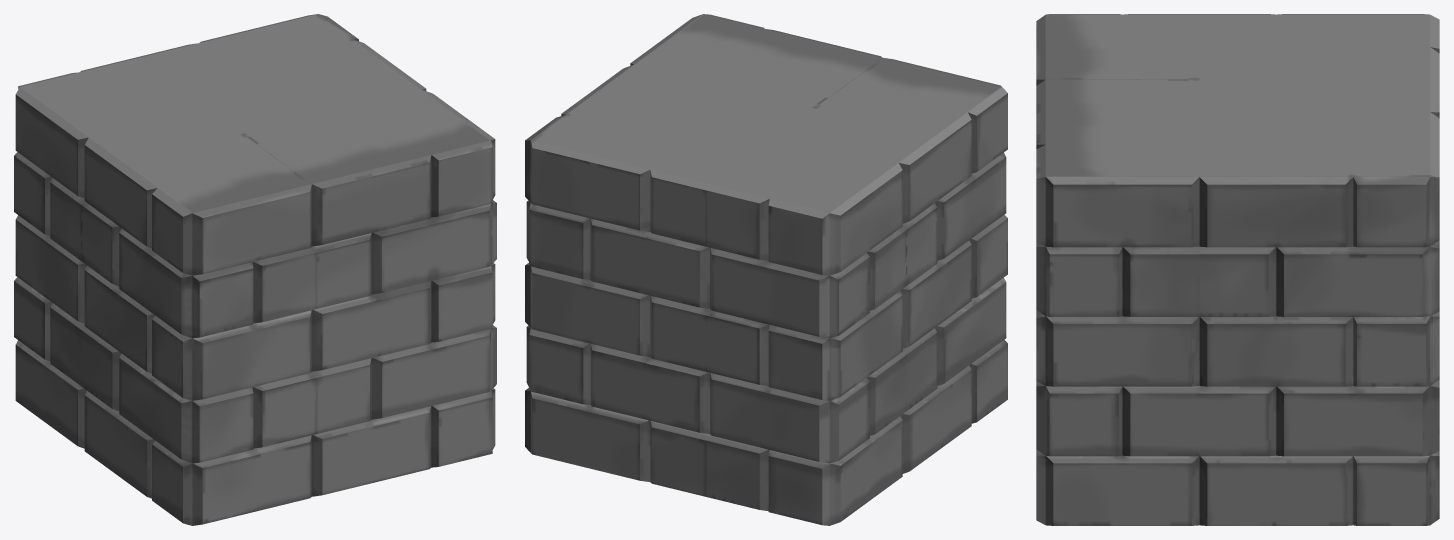
The model's file is BrickWall.glb.
3 views of the same model, side by side, from view 1: azimuth 30°, elevation 25°; view 2: azimuth 150°, elevation 25°; view 3: azimuth 270°, elevation 25° (orthographic). The views are drawn at different scales.
Parts seen in each view (by area): view 1: Cube; view 2: Cube; view 3: Cube.
Part boxes in pixels (x1,y1,x2,y2): Cube: [14, 14, 496, 525]; Cube: [525, 14, 1007, 525]; Cube: [1036, 14, 1439, 525].
Size of the model in its own units: 2.1 by 2 by 2.1.
1 material, 1 textured.
